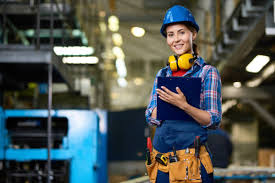Person_wearing_helmet: (156, 2, 203, 39)
